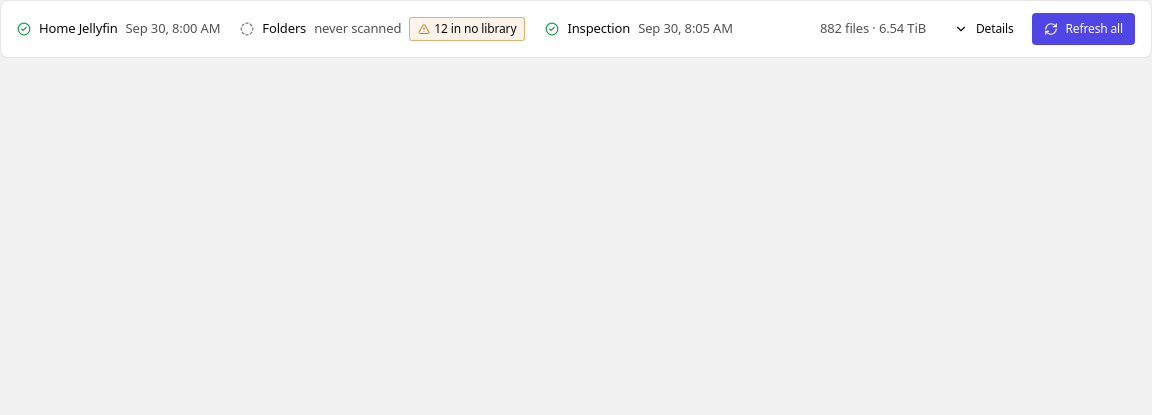
Test: LibrarySyncPanel media folders scan › shows a scan that is never run on the row's status line
Step 1. Click the button "Details" → x=984, y=29, box [942,13,1026,45]
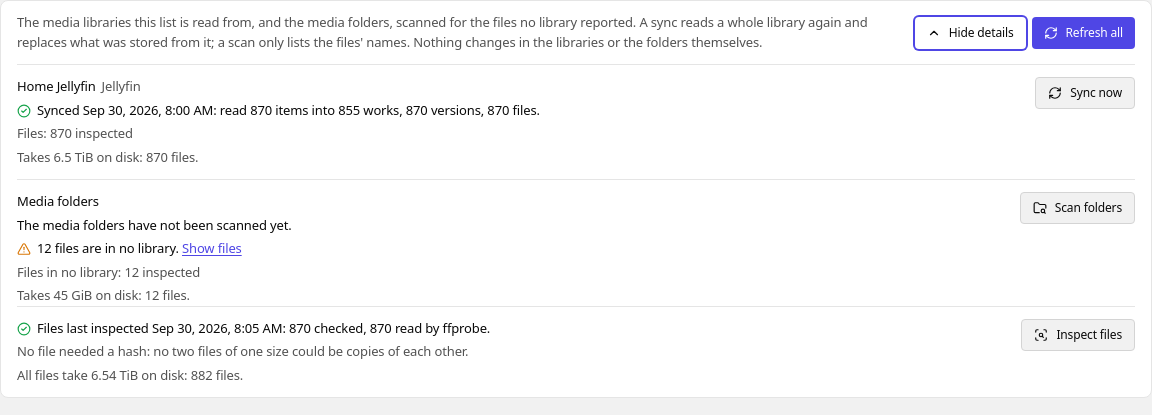
Expected: the message "The media folders have not been scanned yet." is shown, [17,216,292,235]
